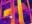Hotspot: (17, 0, 24, 23), (4, 10, 9, 17)
